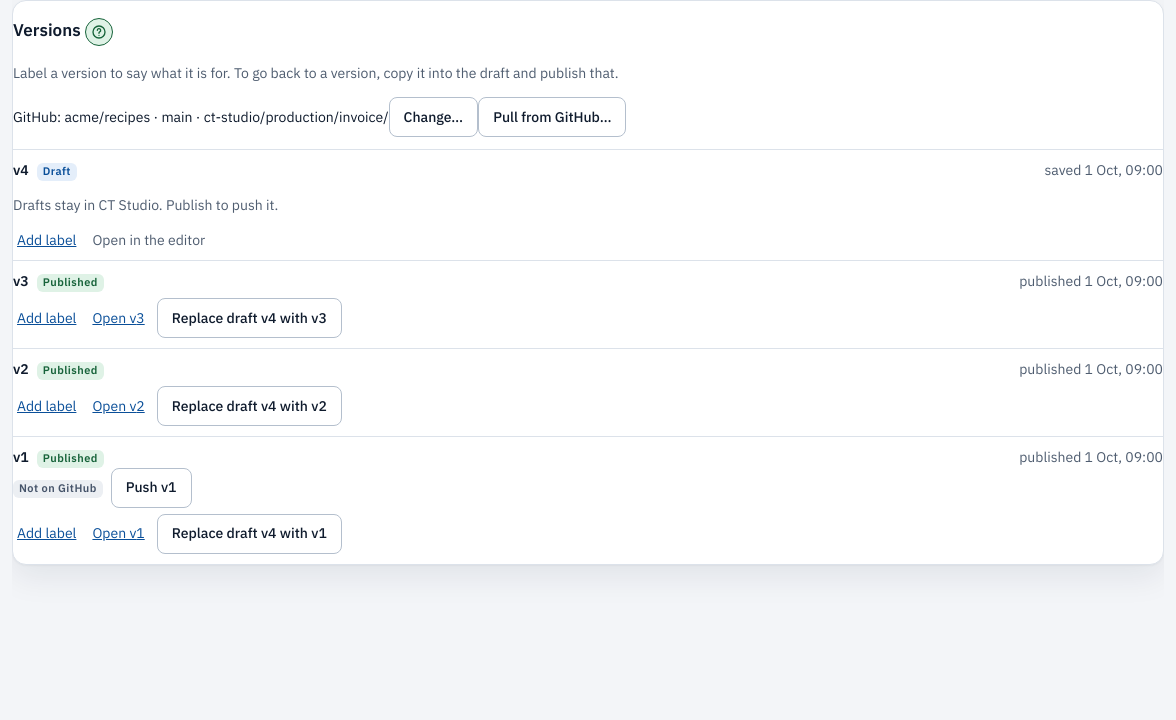
VersionsPanel GitHub sync › keeps a failed push answer beside its row after the reload it causes
Click the button "Push v1" at (151,488), box x1=111 y1=468 x2=192 y2=508
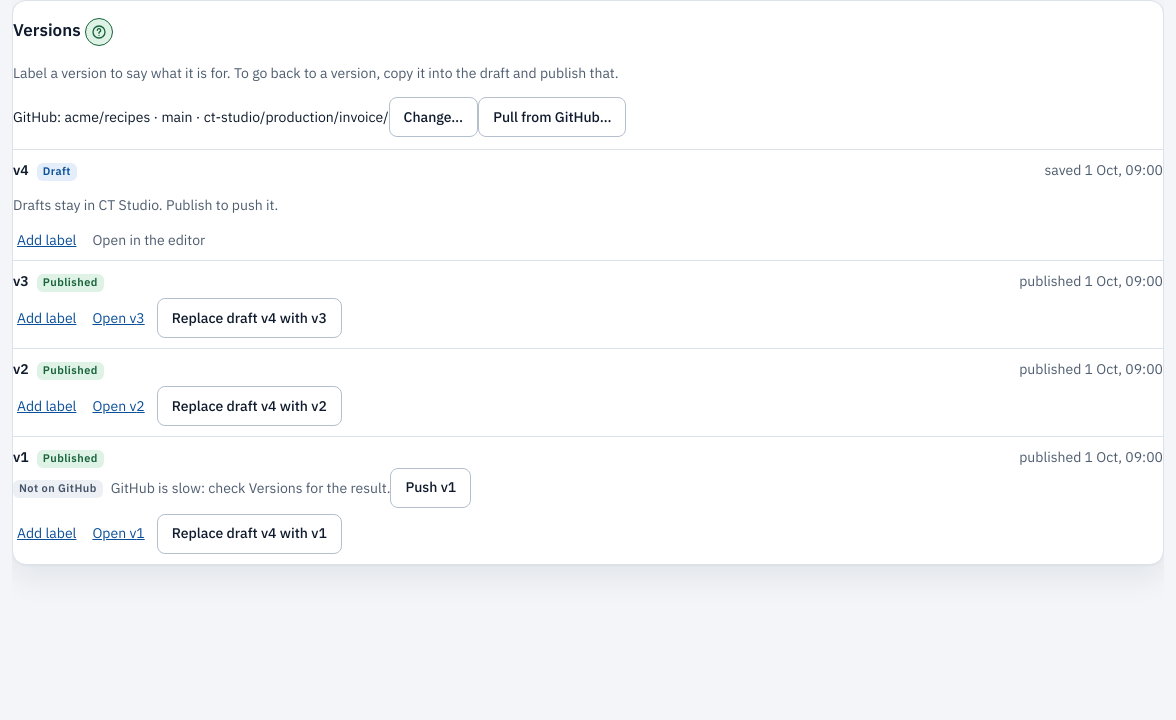
Now the text "GitHub is slow: check Versions for the result." is shown, box x1=111 y1=478 x2=390 y2=496
